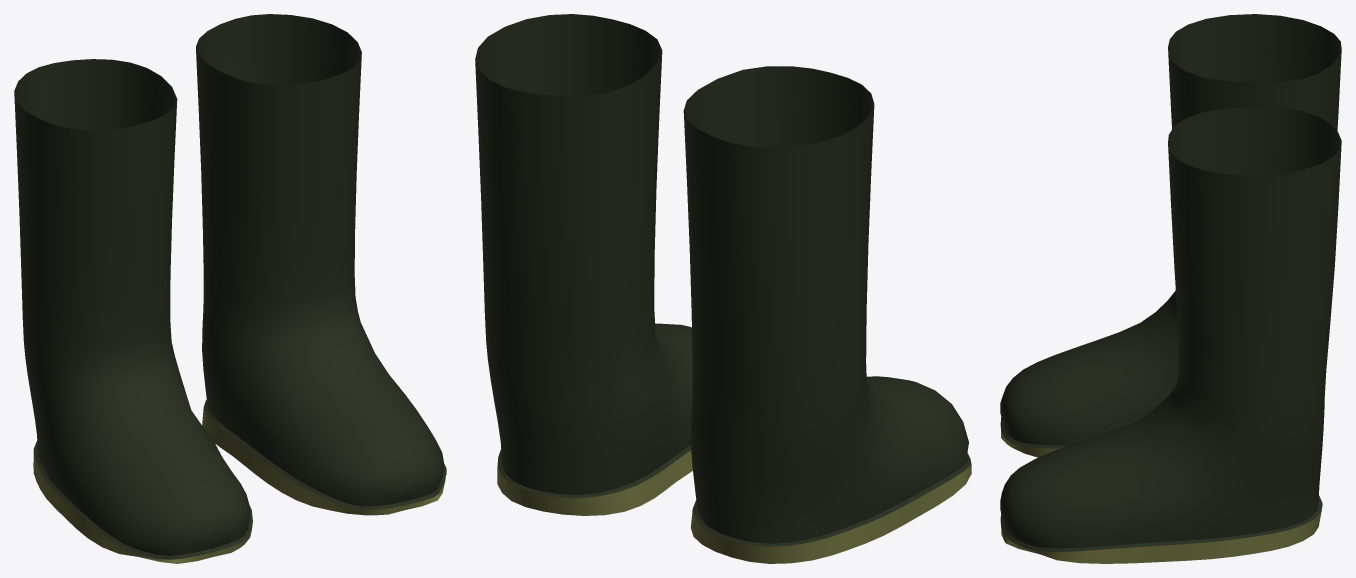
File: bottes.fbx
The picture shows the model from 3 angles, left to right: view 1: azimuth 30°, elevation 25°; view 2: azimuth 150°, elevation 25°; view 3: azimuth 270°, elevation 25°; orthographic projection. The views are drawn at different scales.
Visible parts, largest first — view 1: botte; view 2: botte; view 3: botte.
Part boxes in pixels (bbox=[...]): botte: bbox=[14, 14, 446, 563]; botte: bbox=[475, 14, 971, 563]; botte: bbox=[1000, 14, 1341, 563].
Size of the model in its own units: 37.24 by 38.84 by 31.22.
